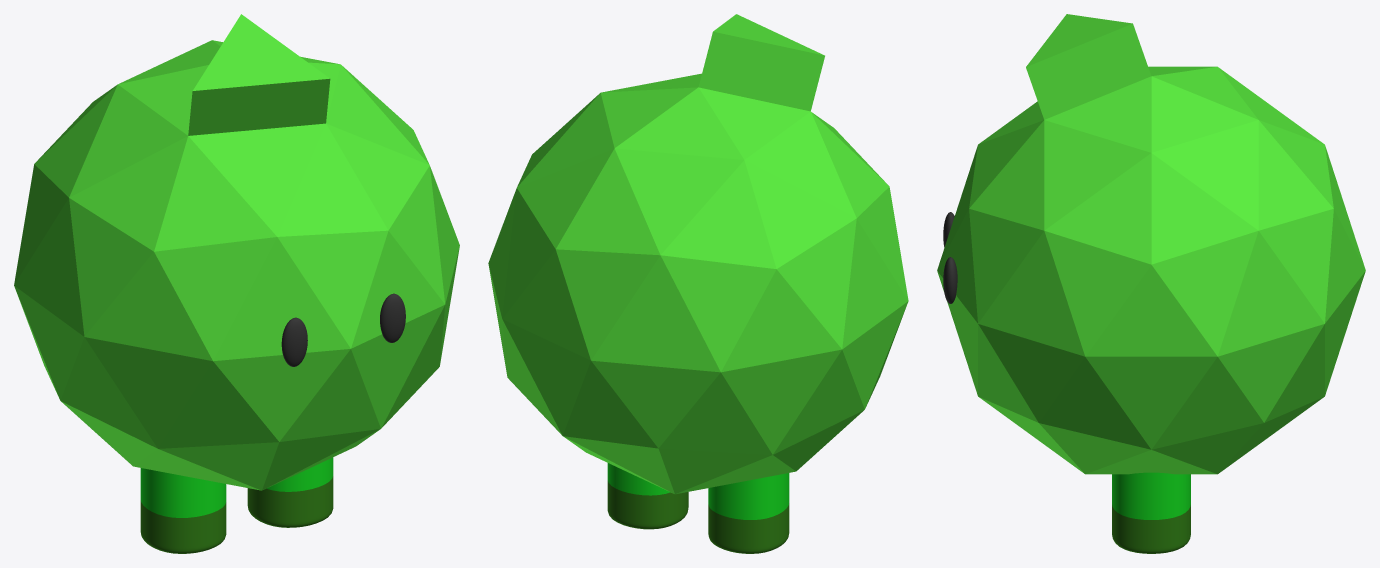
Rendered from melonman.fbx.
3 views of the same model, side by side, from view 1: azimuth 30°, elevation 25°; view 2: azimuth 150°, elevation 25°; view 3: azimuth 270°, elevation 25° (orthographic). The views are drawn at different scales.
Parts seen in each view (by area): view 1: Icosphere, Cube.004, Cube.005; view 2: Icosphere, Cube.004, Cube.005; view 3: Icosphere, Cube.005.
Boxes of the visible parts, x1,y1,x2,y2 form: Icosphere: [14, 14, 459, 490]; Cube.004: [140, 468, 226, 553]; Cube.005: [247, 457, 333, 527]; Icosphere: [488, 14, 908, 494]; Cube.004: [708, 473, 789, 553]; Cube.005: [607, 463, 688, 529]; Icosphere: [937, 14, 1365, 474]; Cube.005: [1112, 472, 1190, 553].
Size of the model in its own units: 190 by 253 by 200.
